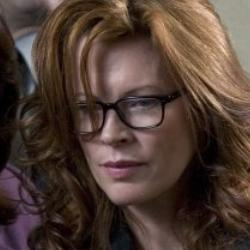face: (18, 3, 246, 229)
